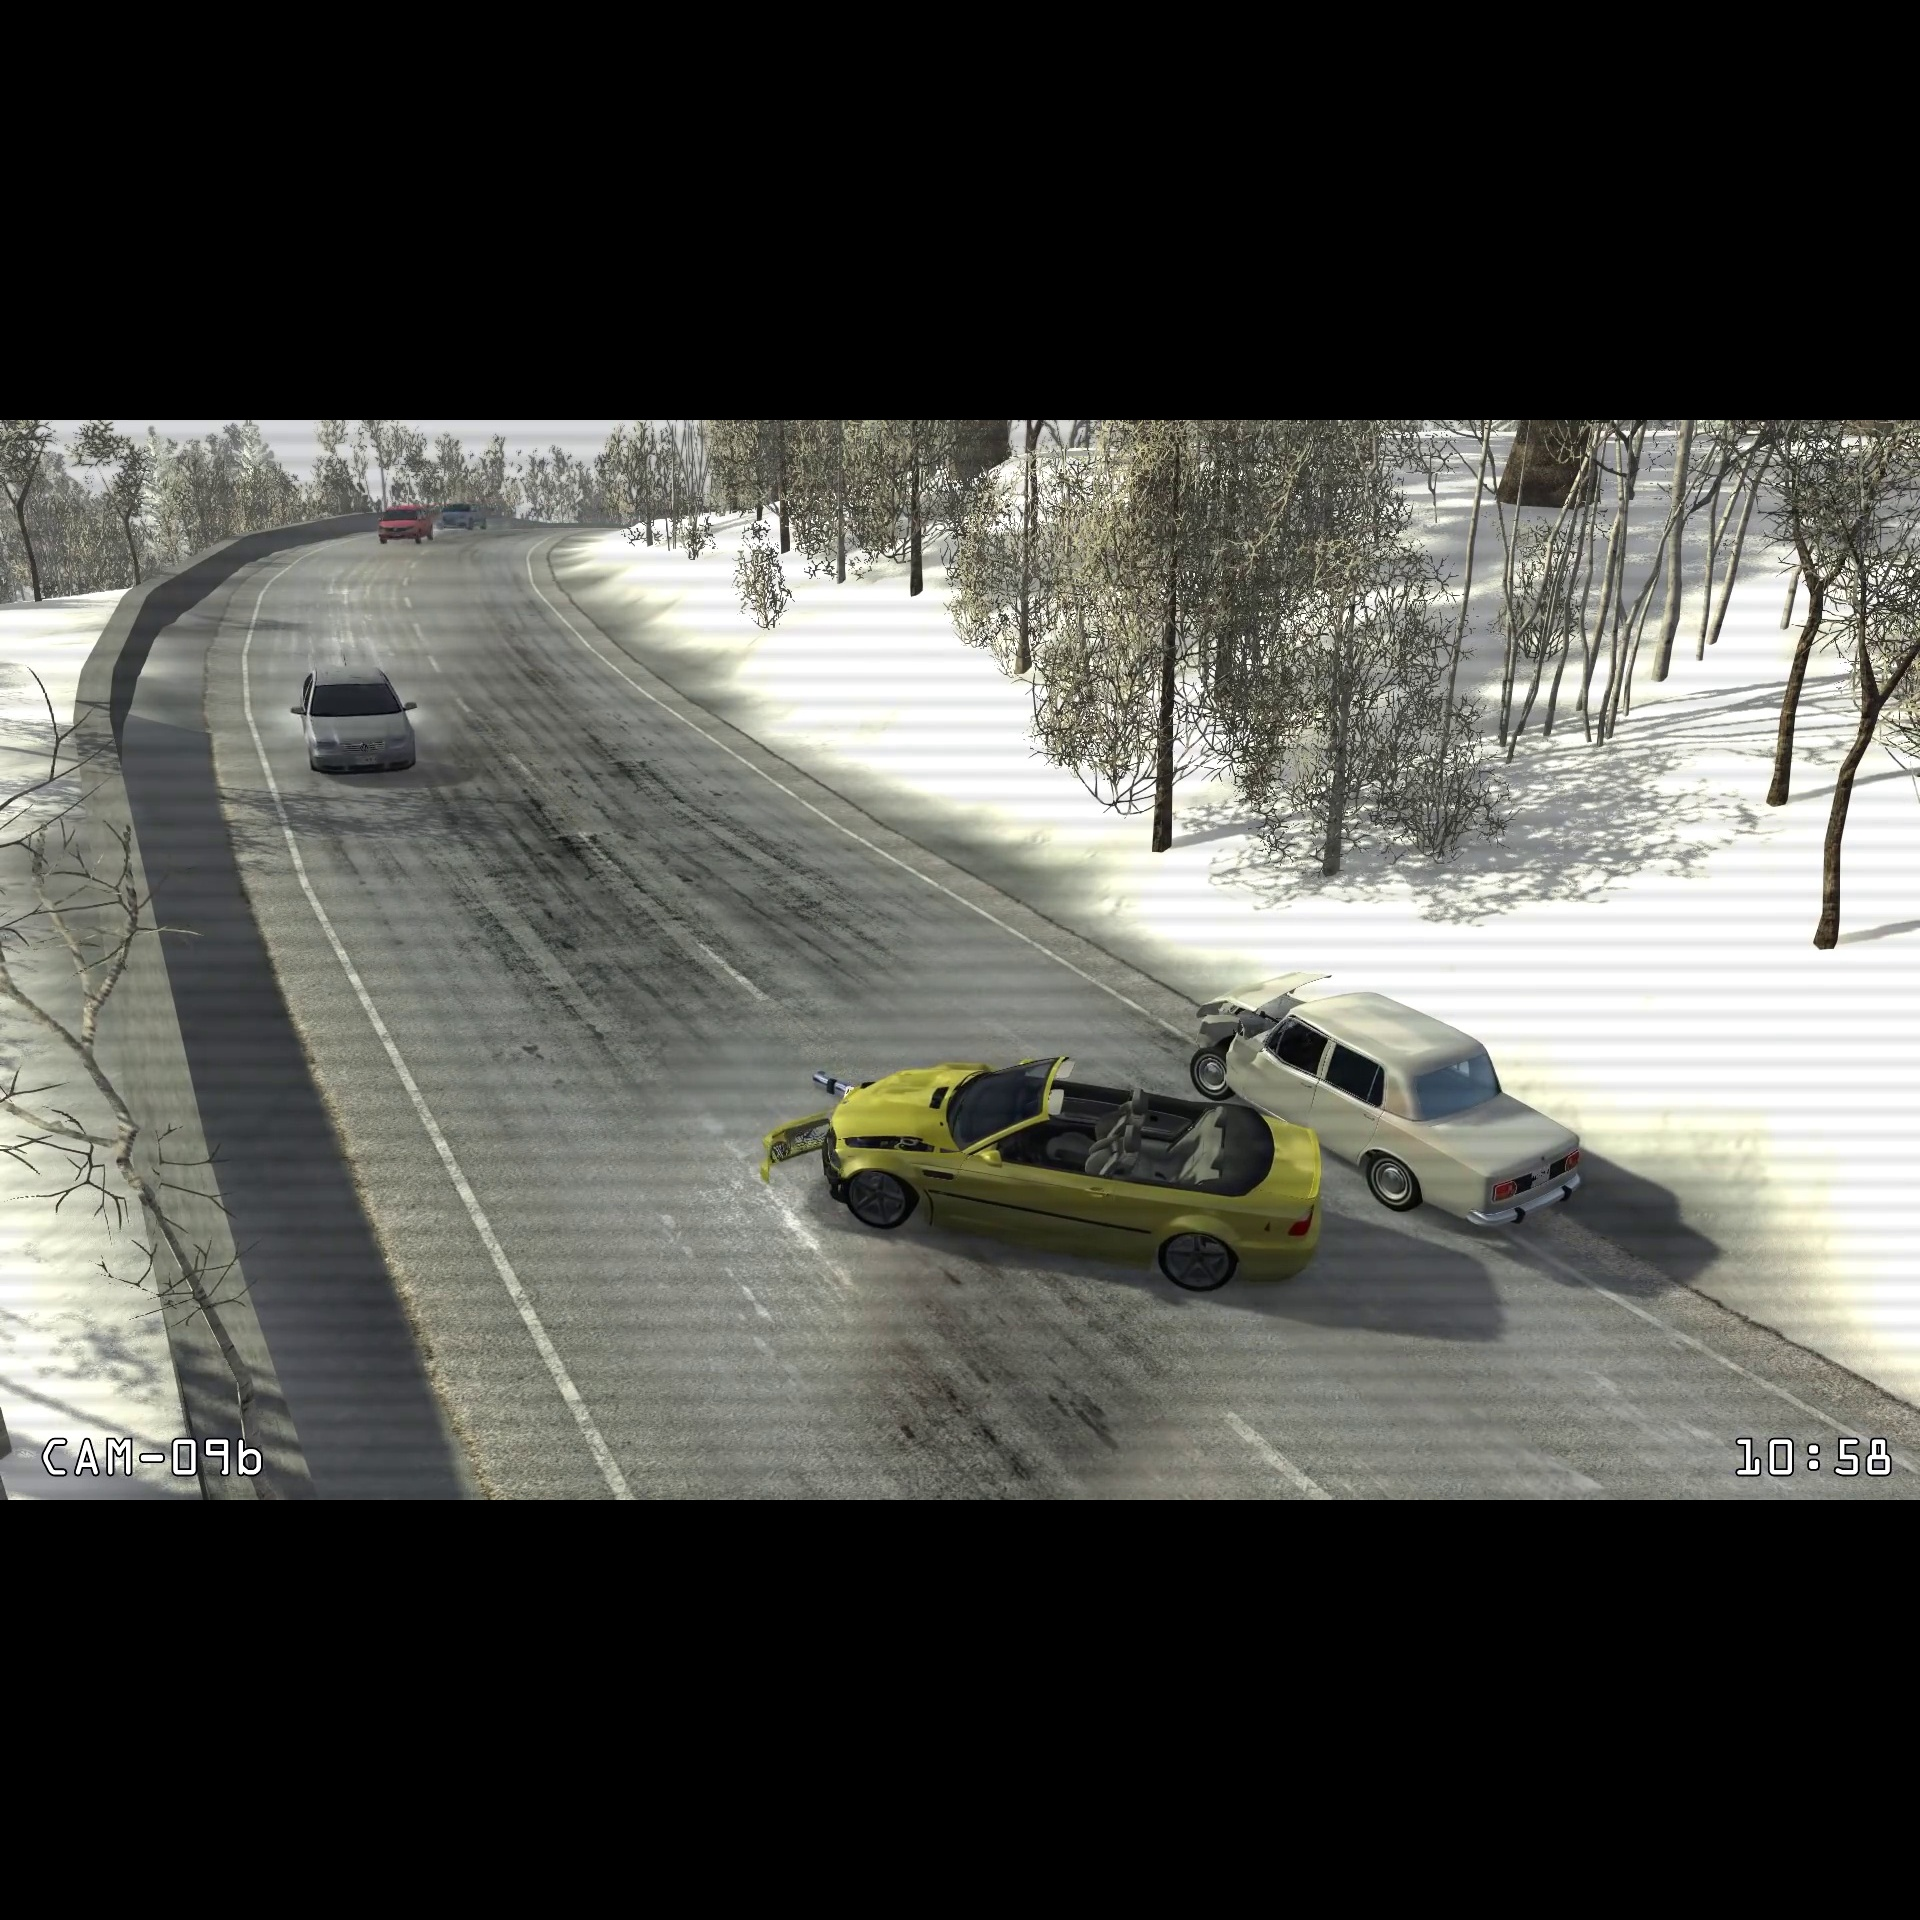vehicle: (805, 1055, 1331, 1303), (1185, 960, 1591, 1245), (287, 659, 431, 782), (375, 501, 436, 545), (434, 496, 492, 536)
